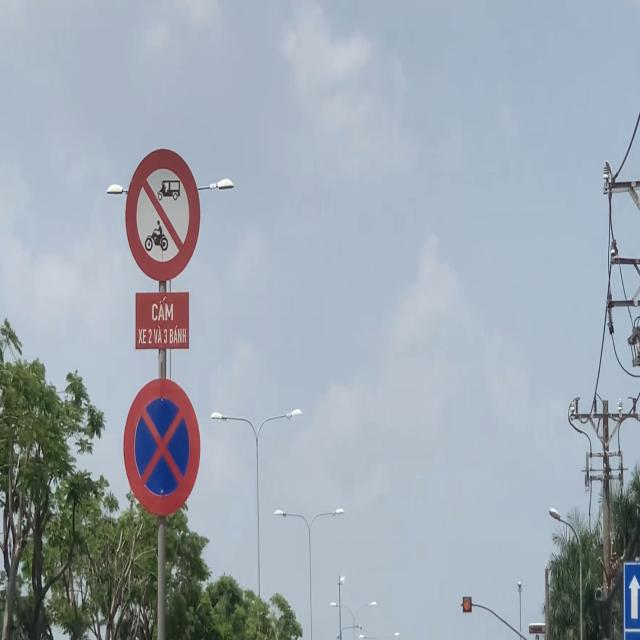Cam con lai: (124, 150, 200, 281)
Cam dung va do: (123, 378, 201, 516)
